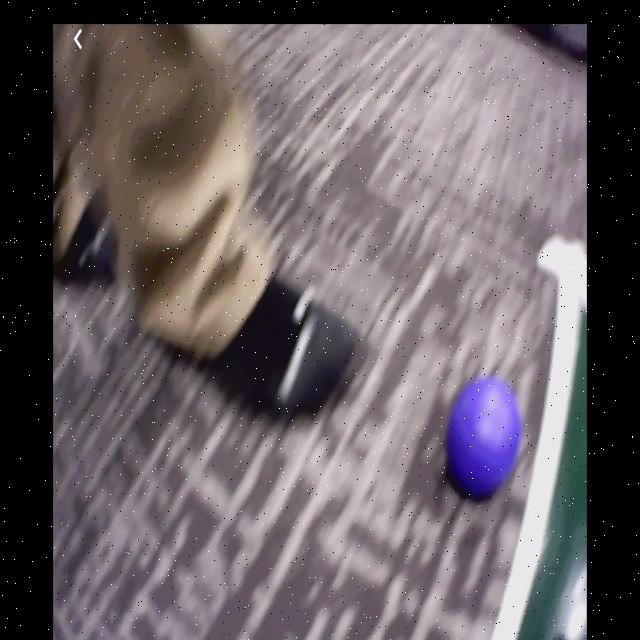ball: (447, 380, 522, 501)
